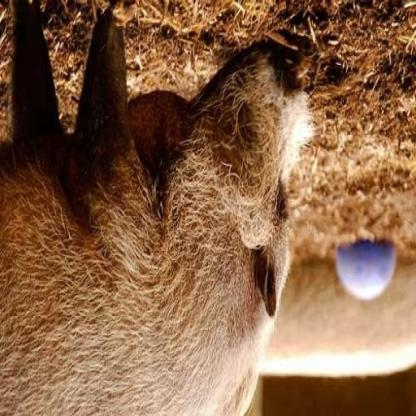boar: (5, 10, 327, 416)
